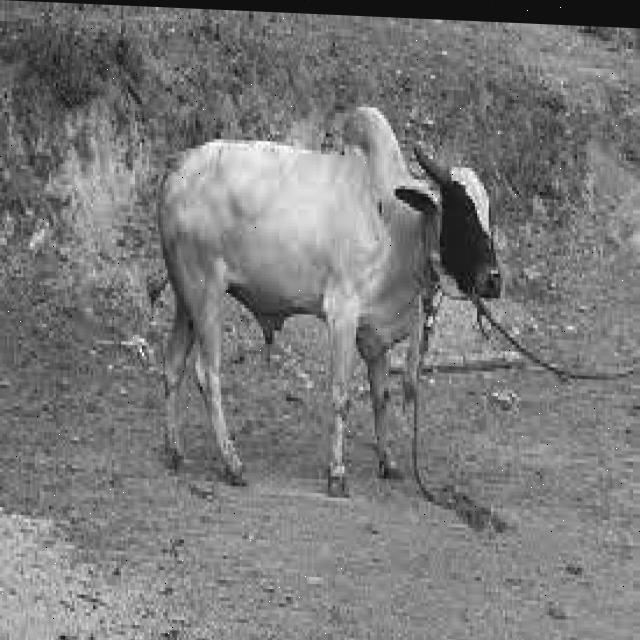Cow: (149, 91, 503, 505)
